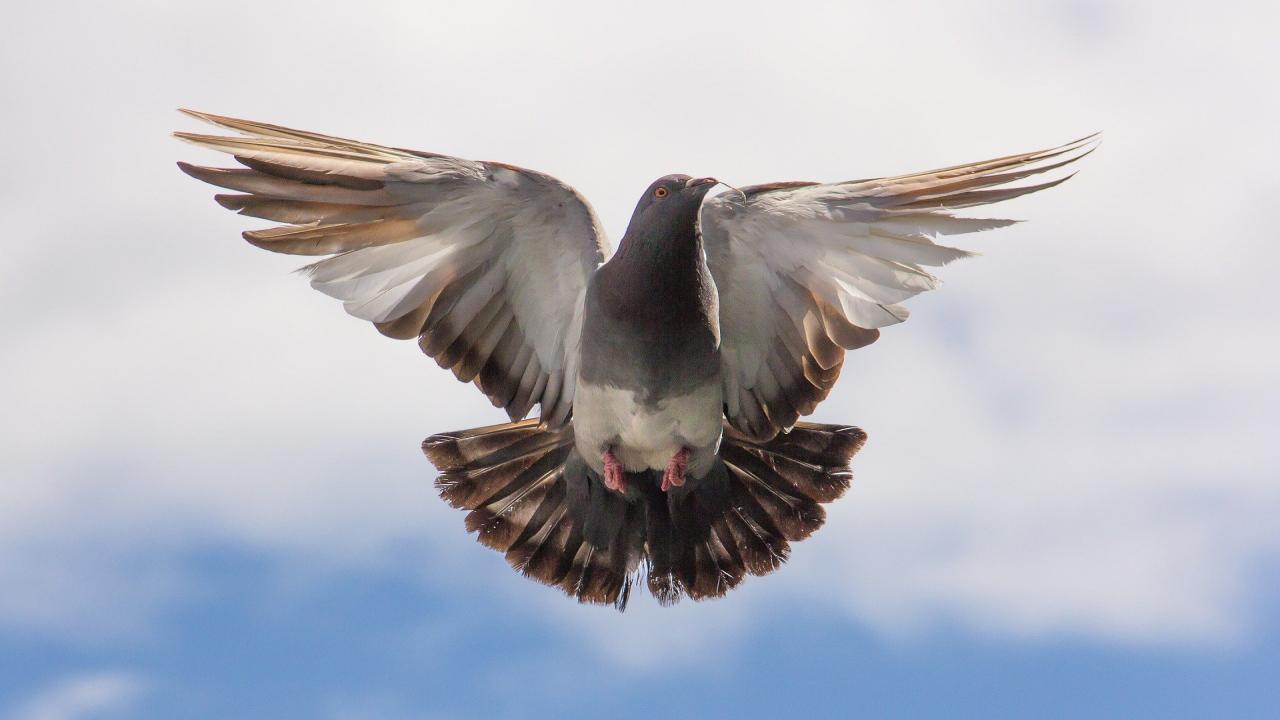Bird: (156, 85, 1114, 626)
